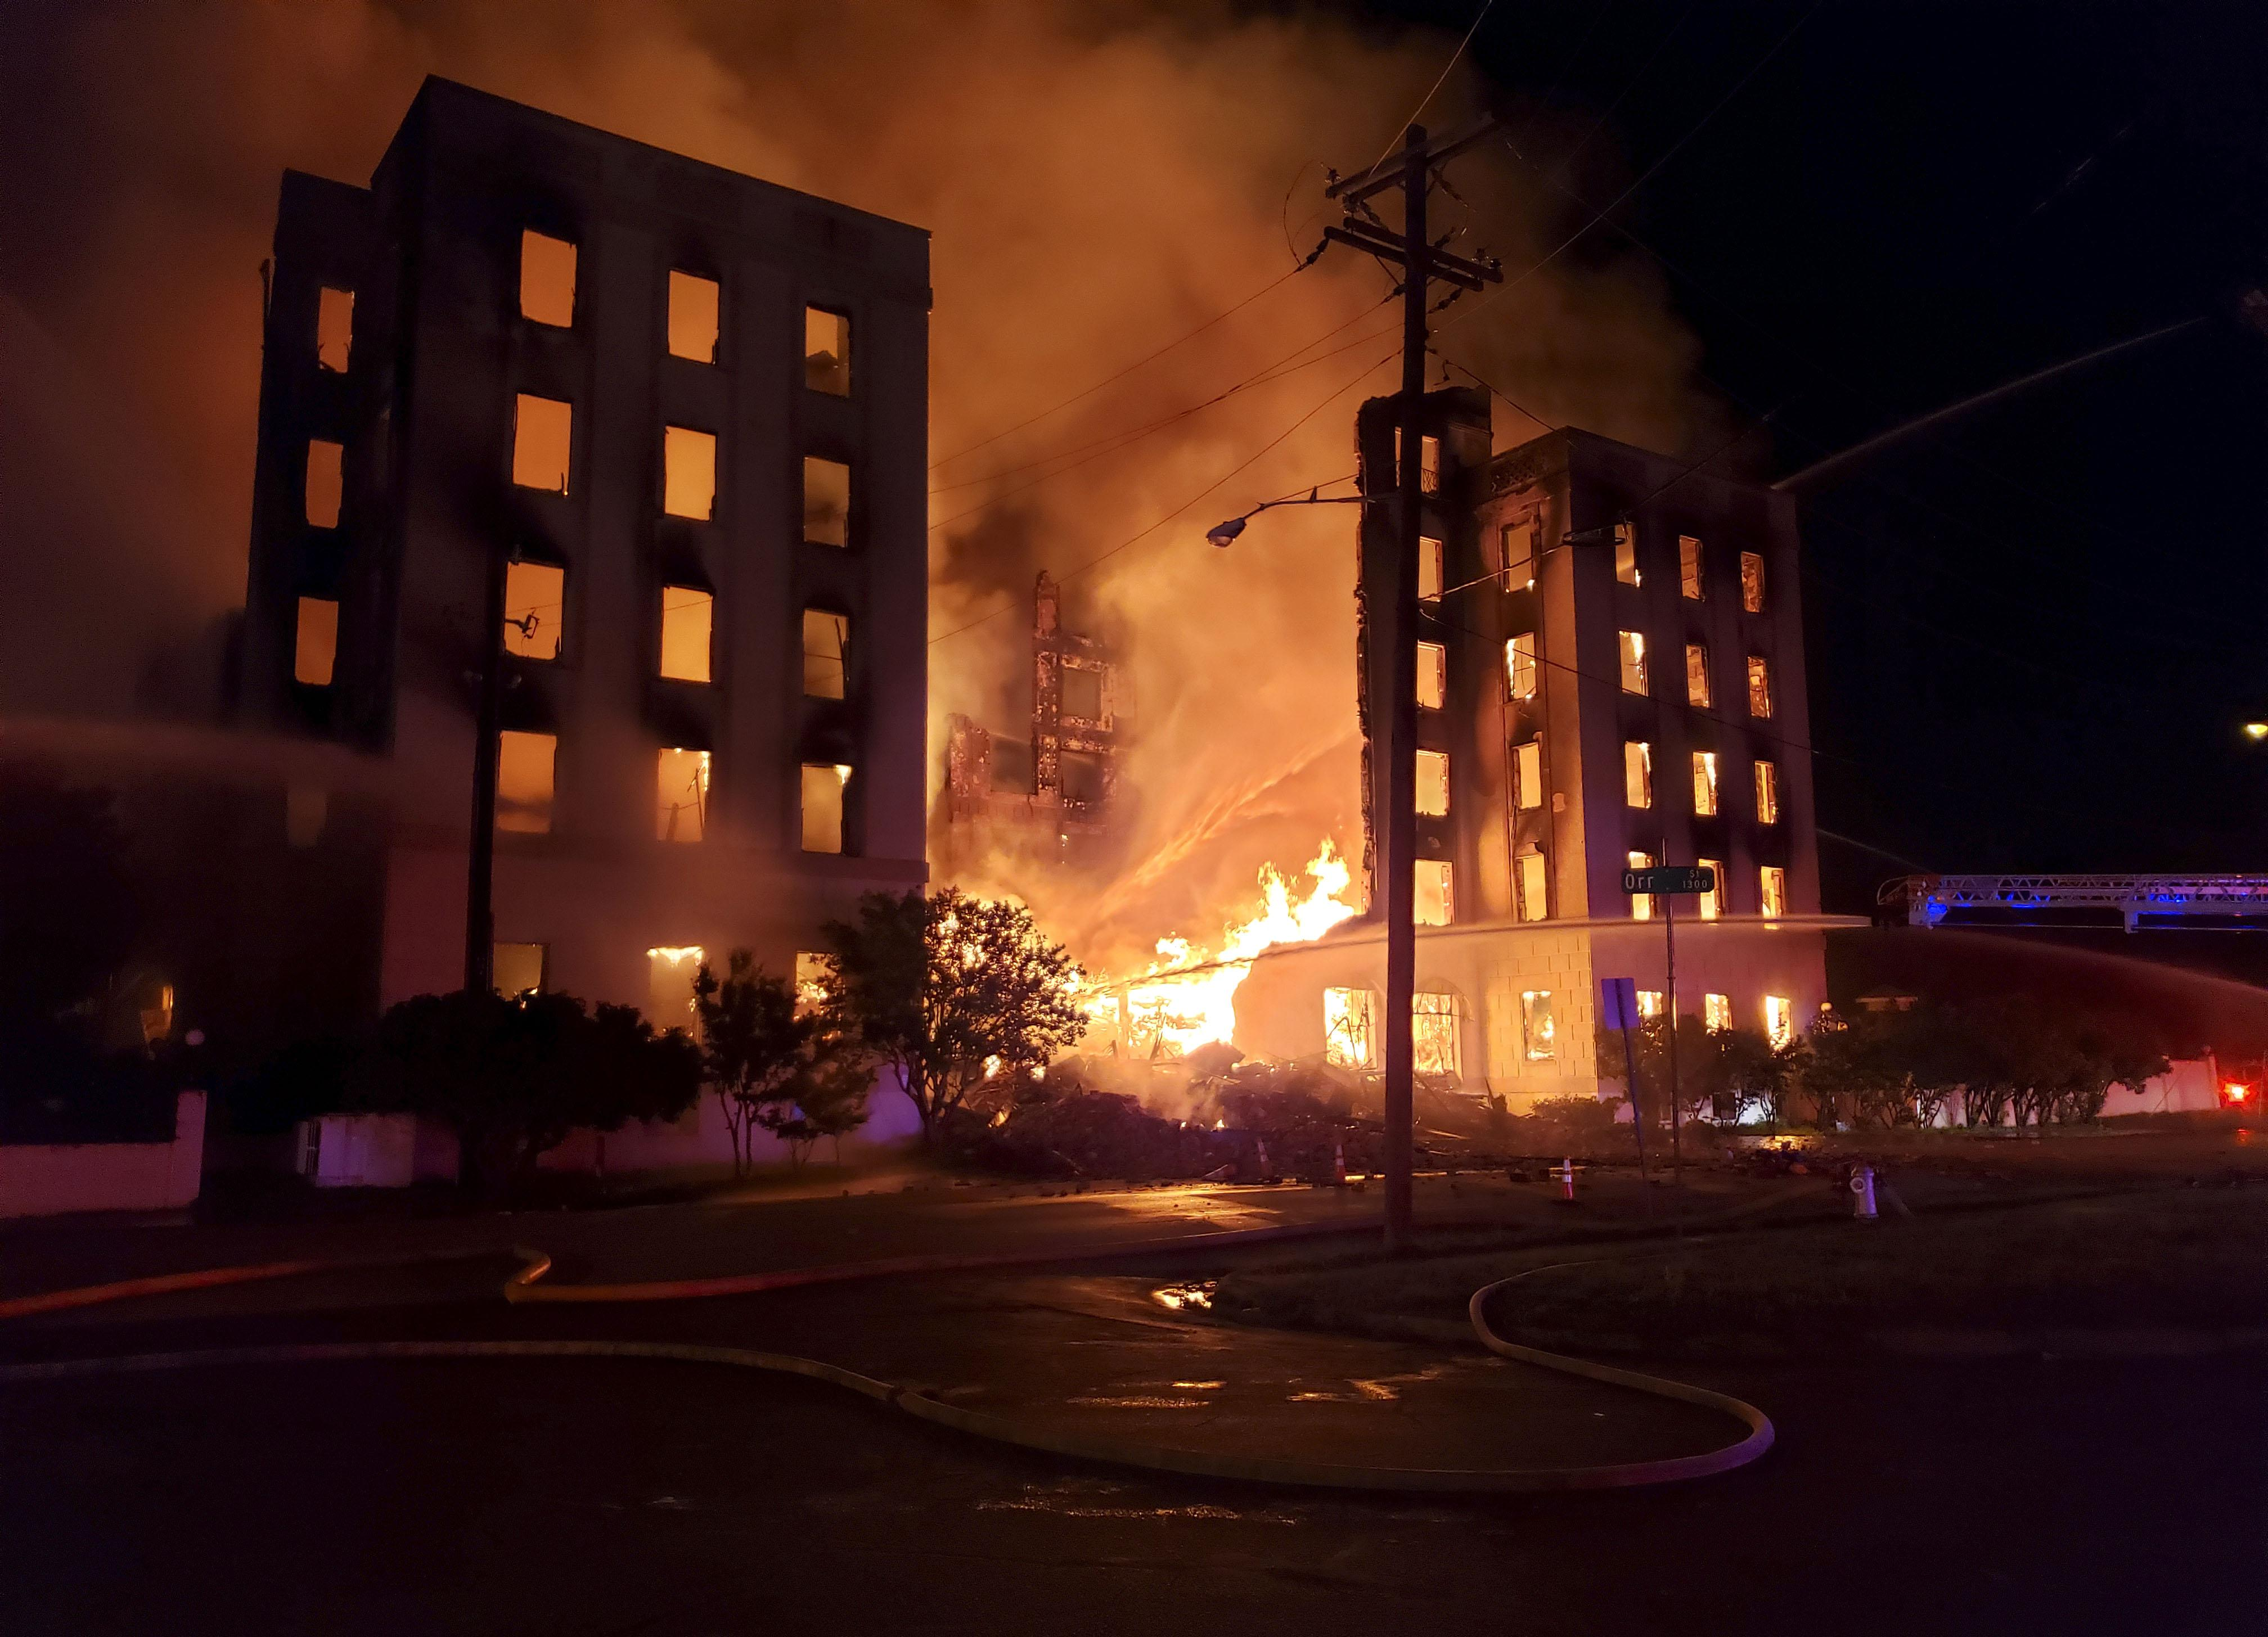Fire: (984, 789, 1447, 1095)
